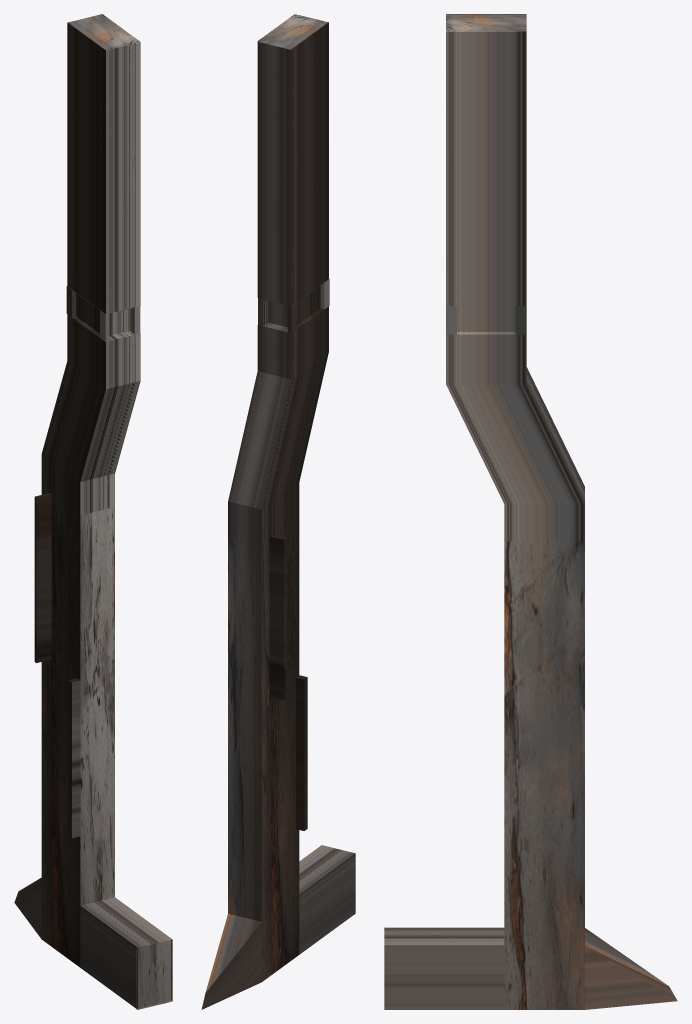
Rendered from right-3.glb.
3 views of the same model, side by side, from view 1: azimuth 30°, elevation 25°; view 2: azimuth 150°, elevation 25°; view 3: azimuth 270°, elevation 25° (orthographic). The views are drawn at different scales.
Parts seen in each view (by area): view 1: Cube.001; view 2: Cube.001; view 3: Cube.001.
Boxes of the visible parts, bbox=[...] form: Cube.001: bbox=[14, 14, 172, 1009]; Cube.001: bbox=[201, 14, 355, 1009]; Cube.001: bbox=[384, 14, 677, 1009].
Bounding box in the file's own units: 0.7616 × 13.71 × 3.73.
1 material, 1 textured.
